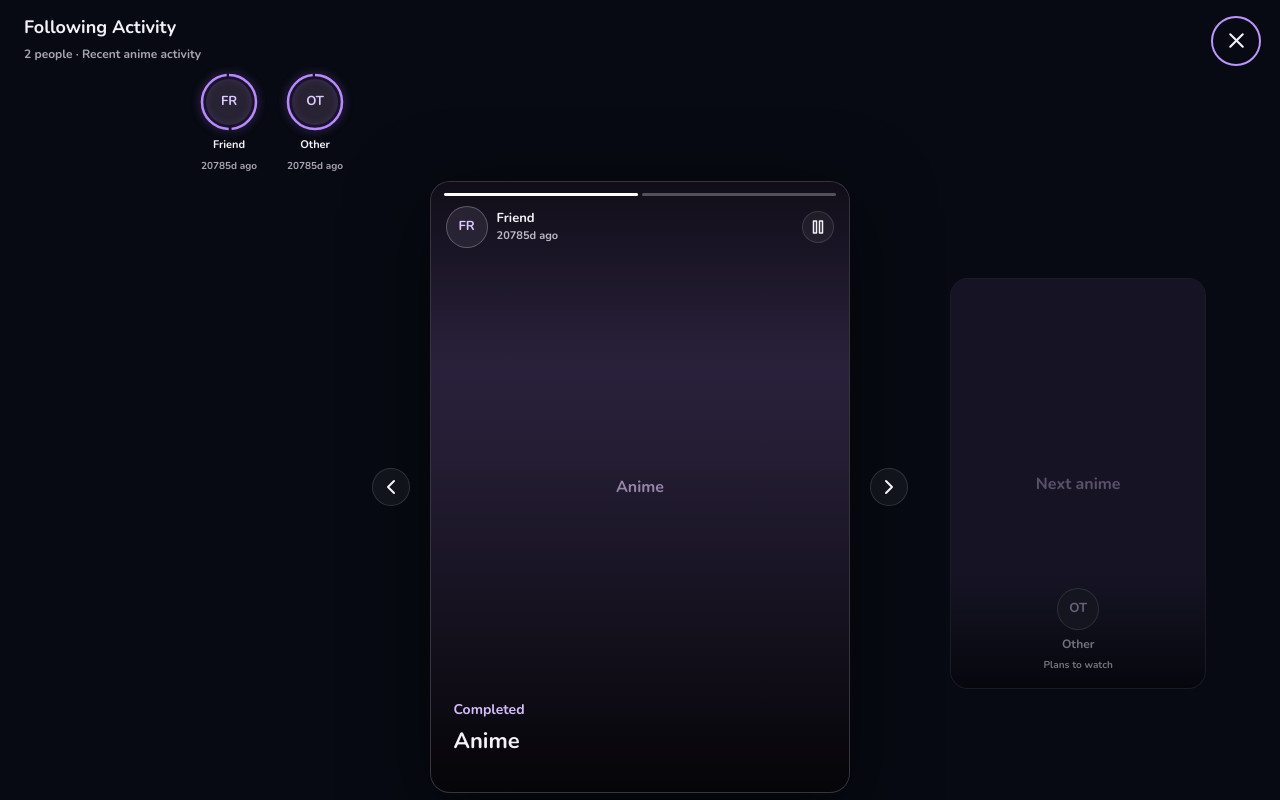
Test: viewer advances automatically, pauses, navigates user previews and closes on Escape
Later steps or results of the test are not shown.
Step 1. Click the button named "Pause stories" → (818, 226), box left=802, top=210, right=834, bottom=242
Wait 7000 ms
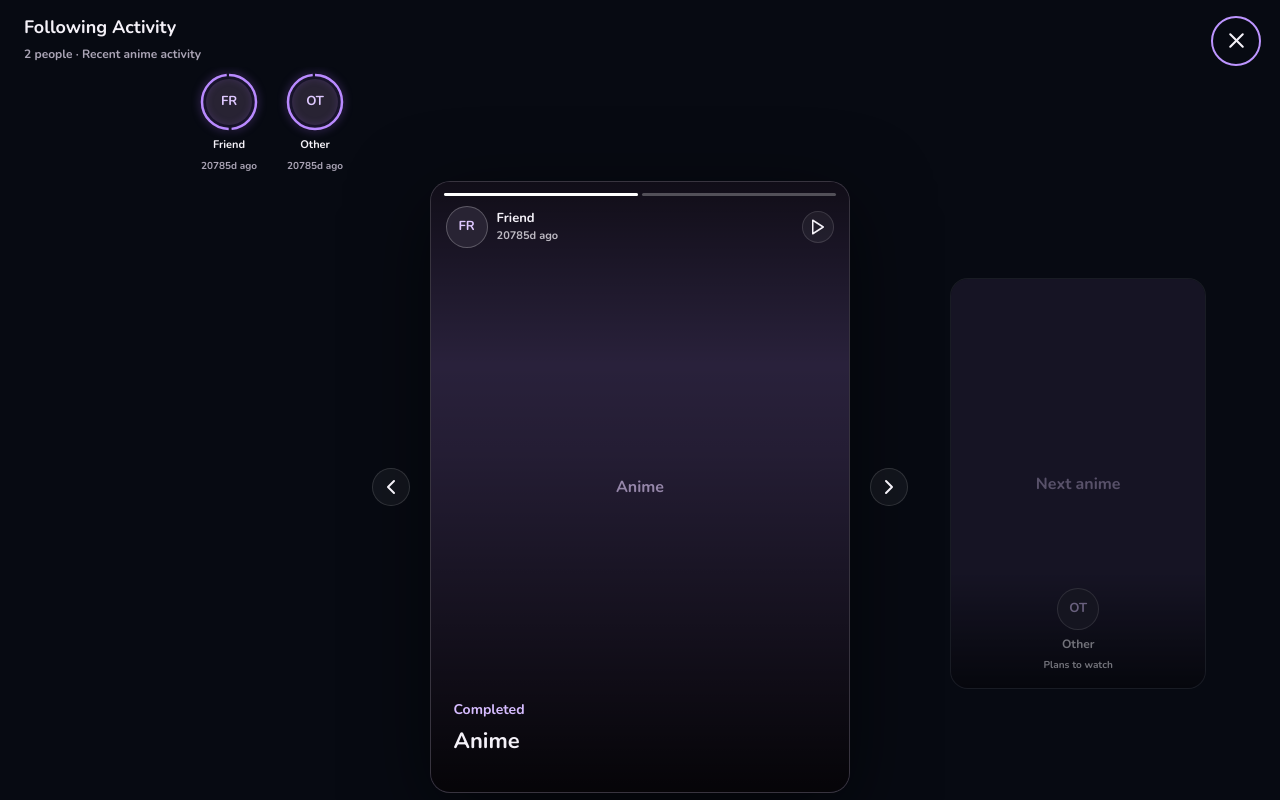
Expected: the element with class "following-story-card" shows "Completed", left=454, top=700, right=524, bottom=719
Step 2. Click the button with aria-label "Preview stories from Other" → (1078, 484), box left=950, top=278, right=1206, bottom=689
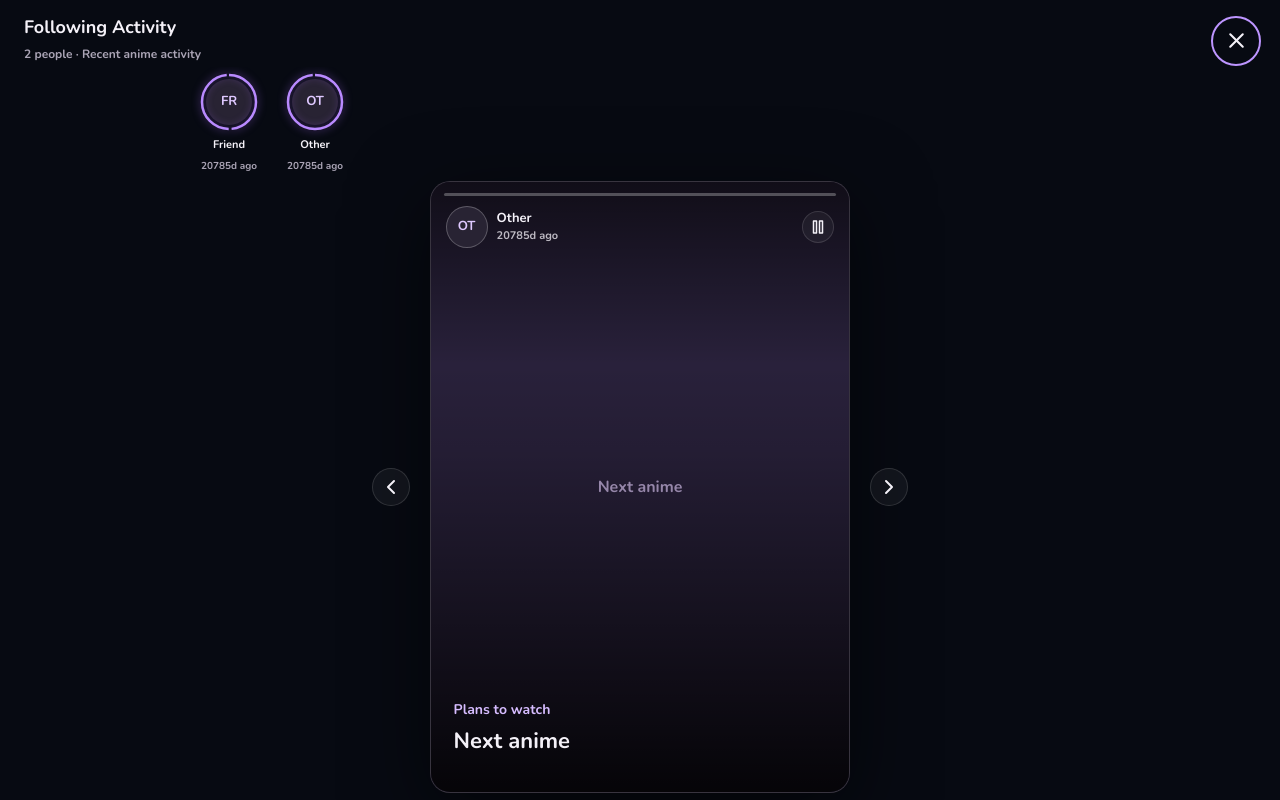
Expected: the element with class "following-story-card" shows "Next anime", left=598, top=476, right=682, bottom=498
